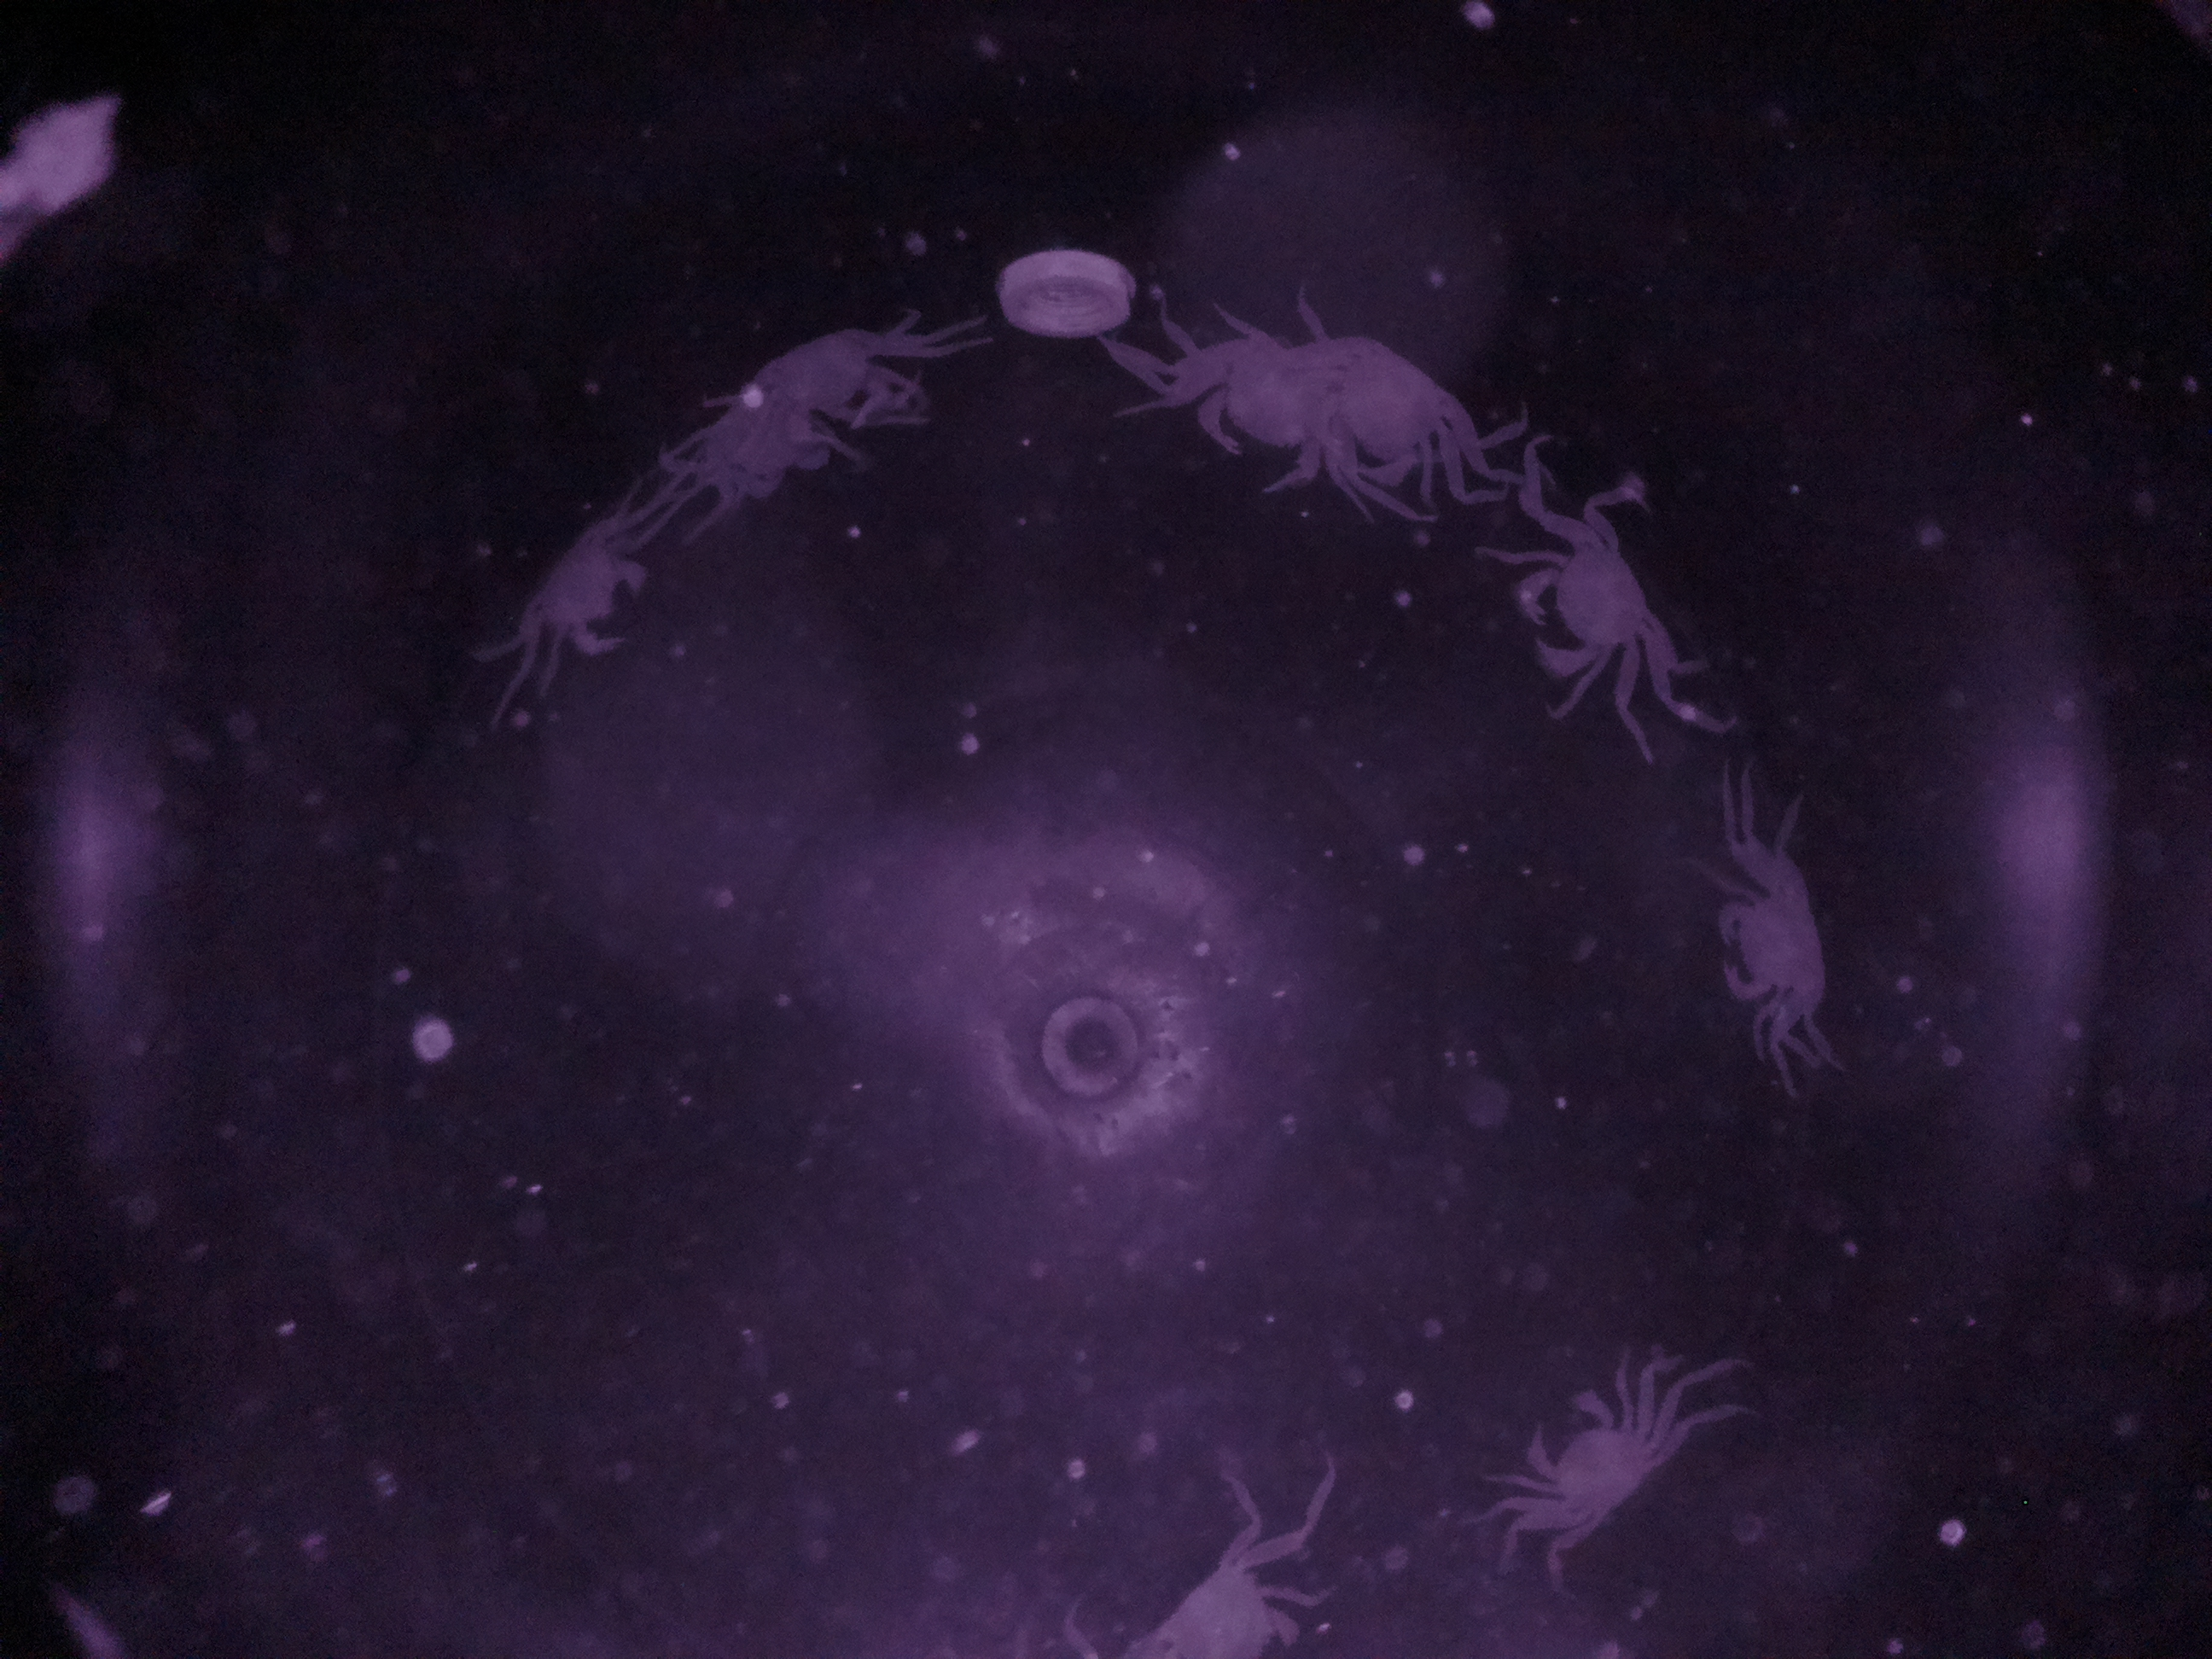Crab: (1496, 498, 1670, 716), (1696, 836, 1860, 1061), (1501, 1364, 1669, 1565)
